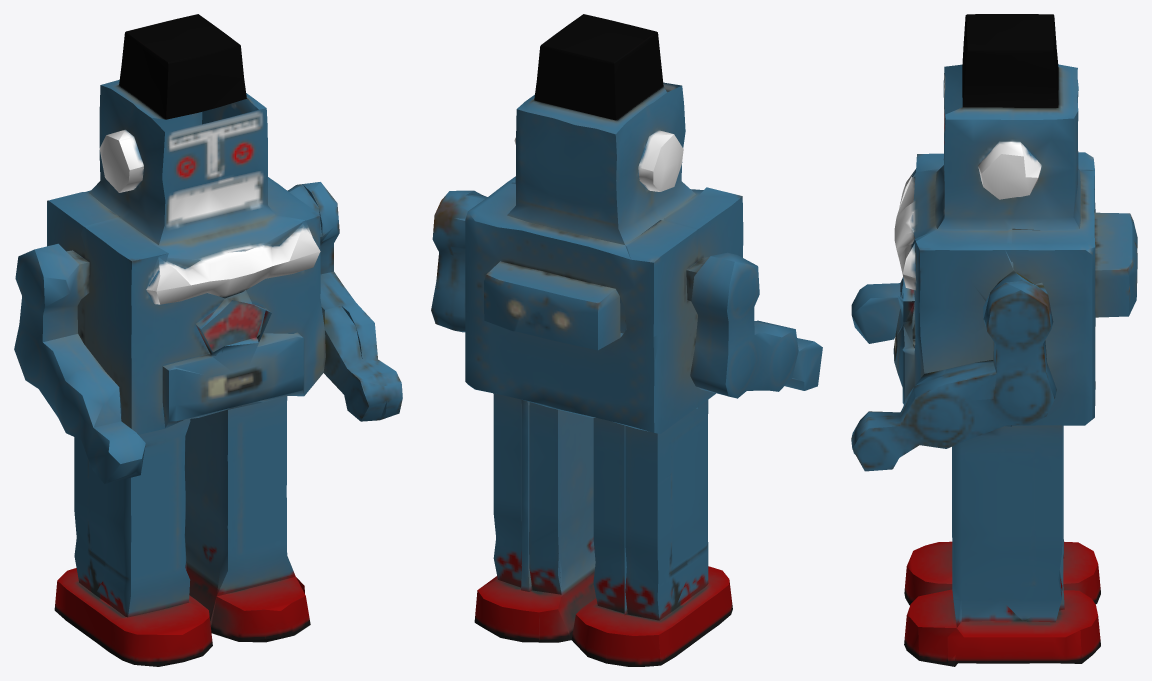
Rendered from toy_robot.glb.
3 renders of one model, left to right at view 1: azimuth 30°, elevation 25°; view 2: azimuth 150°, elevation 25°; view 3: azimuth 270°, elevation 25°, orthographic. The views are drawn at different scales.
Visible parts, largest first — view 1: mesh; view 2: mesh; view 3: mesh.
Part boxes in pixels (x1=…): mesh: x1=14, y1=14, x2=402, y2=666; mesh: x1=431, y1=14, x2=822, y2=666; mesh: x1=851, y1=14, x2=1137, y2=666.
Size of the model in its own units: 0.119 by 0.22 by 0.097.
1 material, 1 textured.
